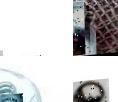ironball: (0, 64, 44, 101), (73, 79, 109, 101)
